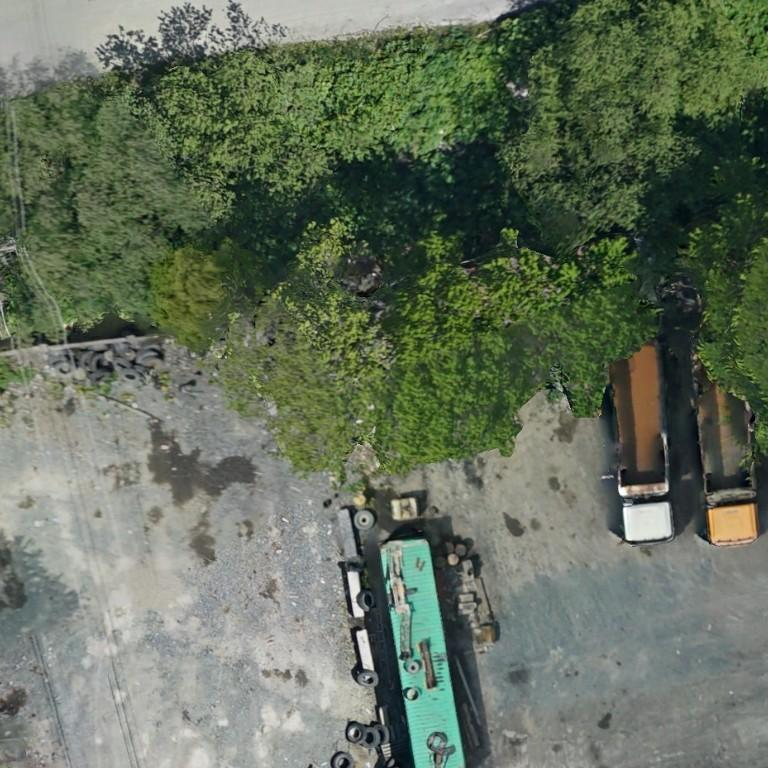hogweed: (318, 38, 499, 150)
